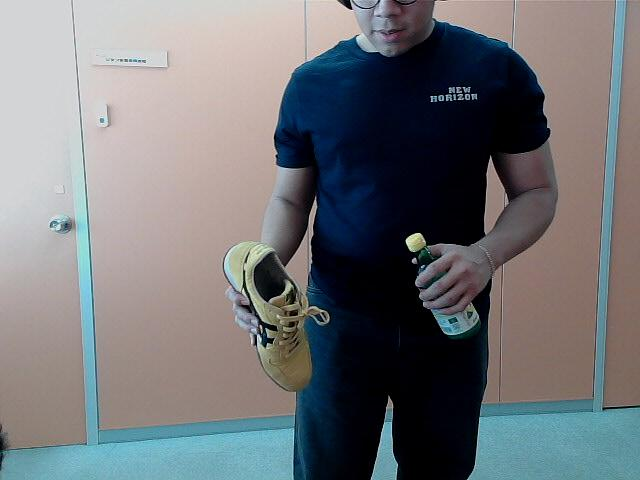Lemon_sapporo: (401, 232, 482, 342)
Shoes: (223, 241, 320, 392)
